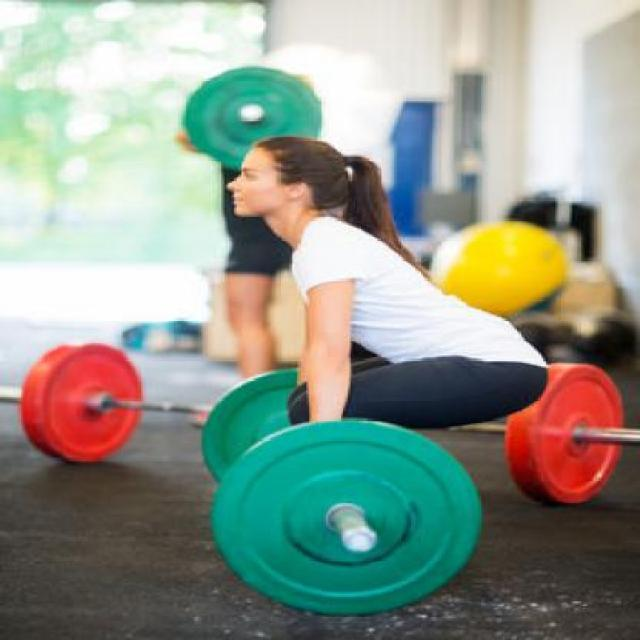Barbell: (306, 482, 394, 562)
